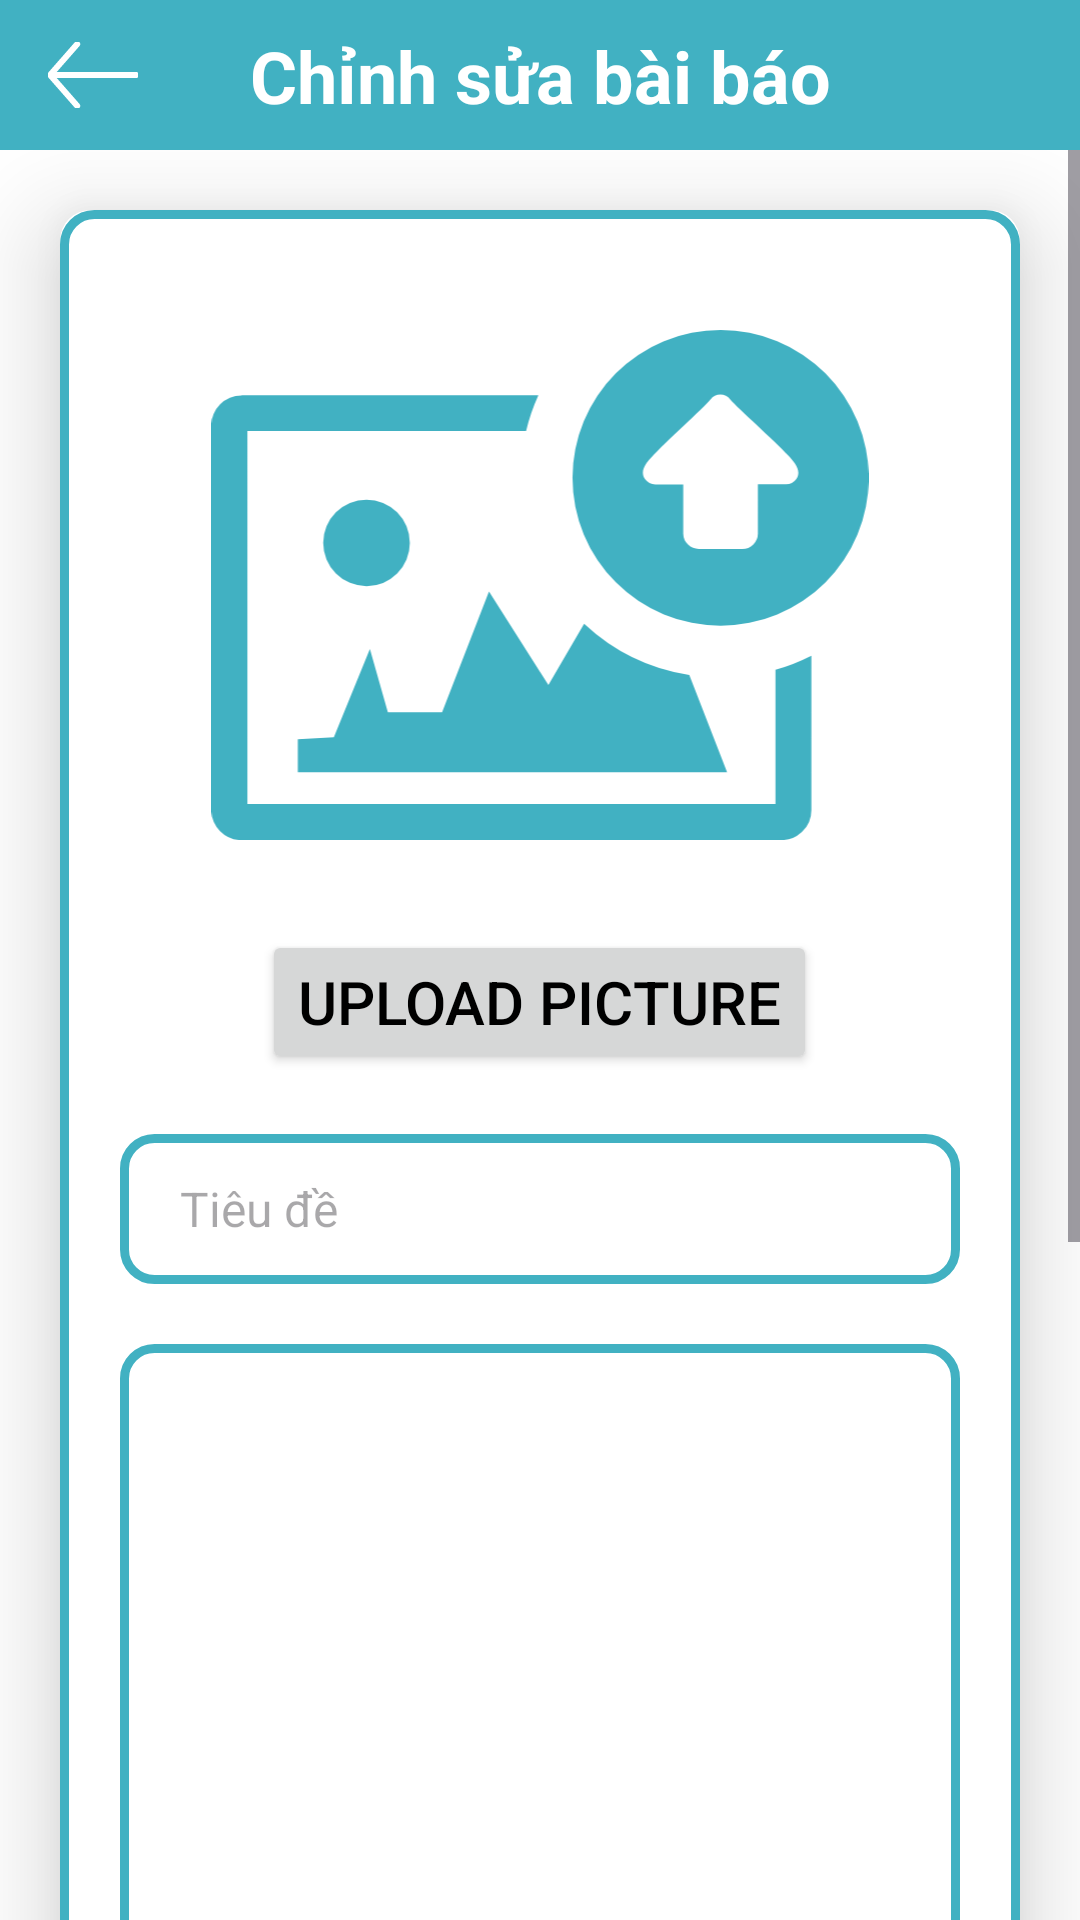

Icon bounding boxes for this 1080x1920 phone screenshot, format region(x1, y1, x2, y2):
back arrow: region(48, 42, 138, 108)
